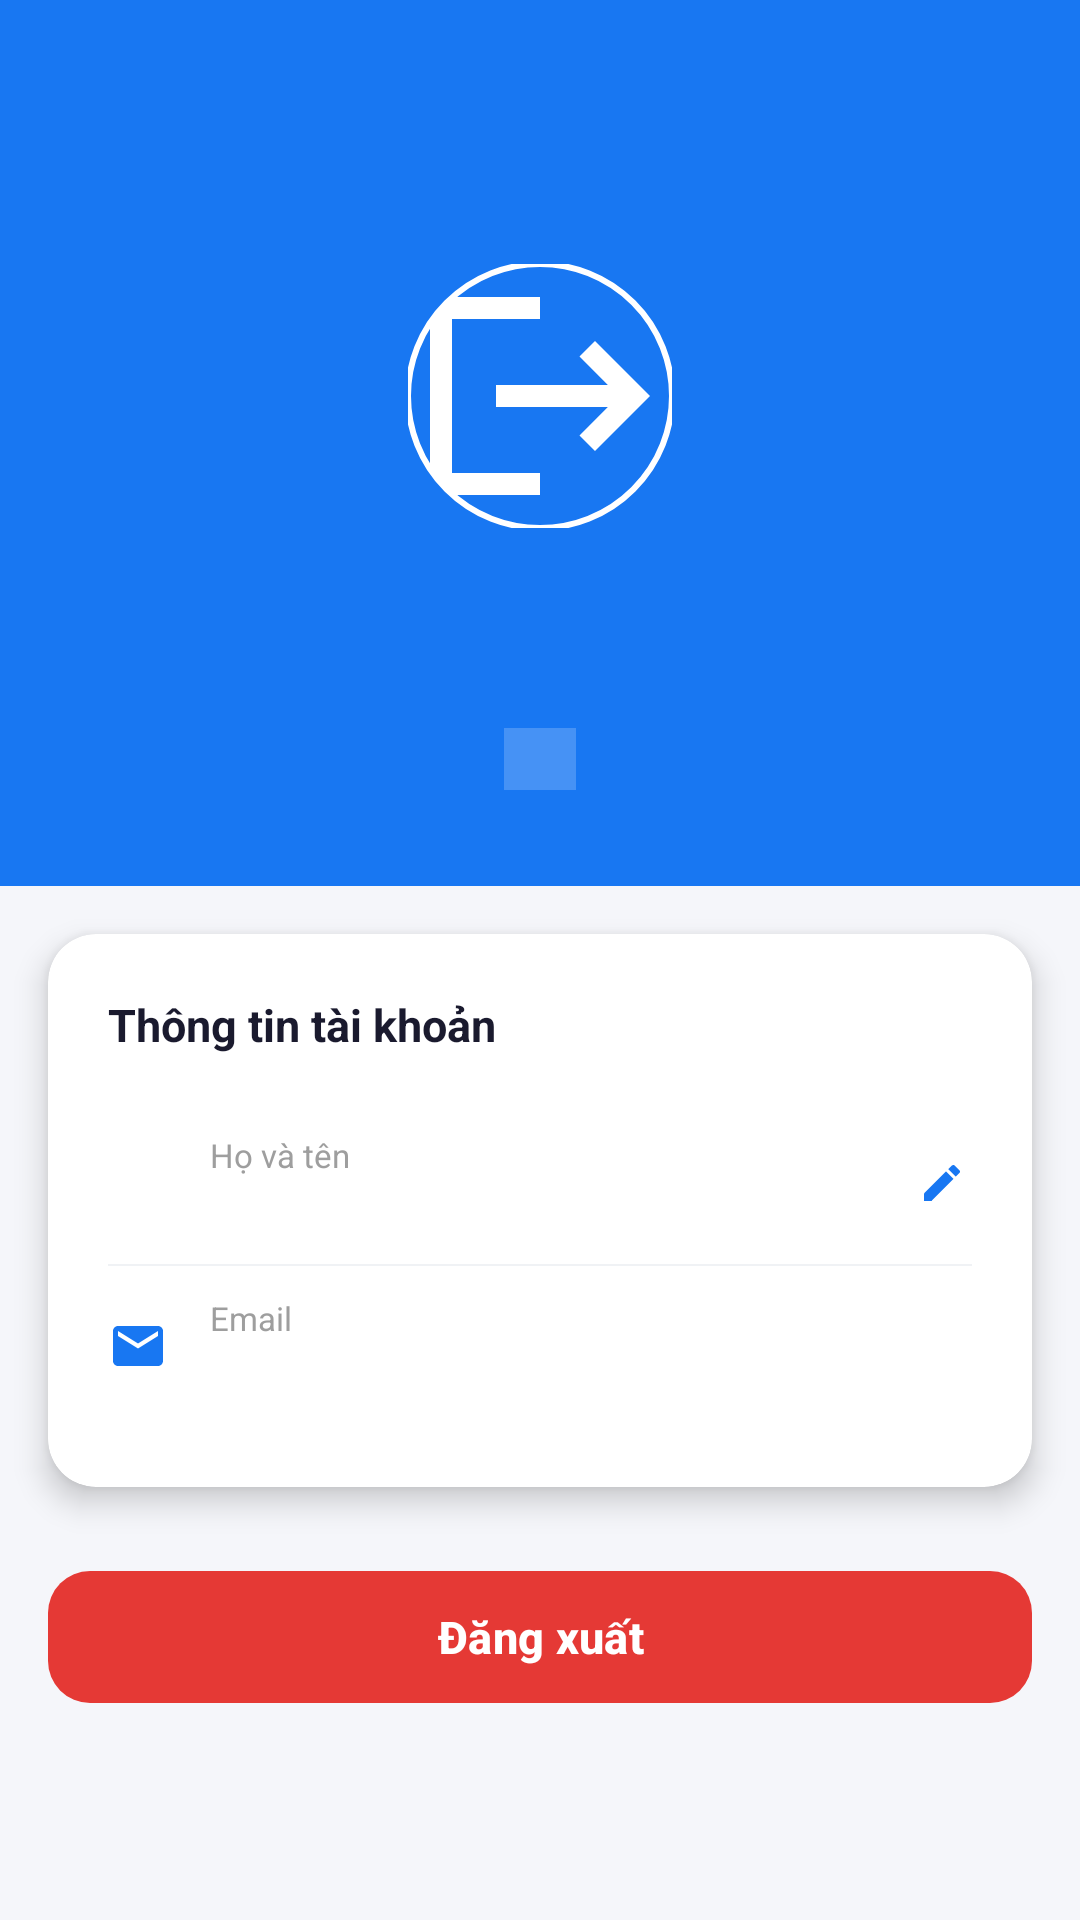

Named icons in this screenshot (1080 × 1920) and their bounding boxes, (x1, y1, x2, y2):
Sửa tên: (924, 1165, 960, 1201)
